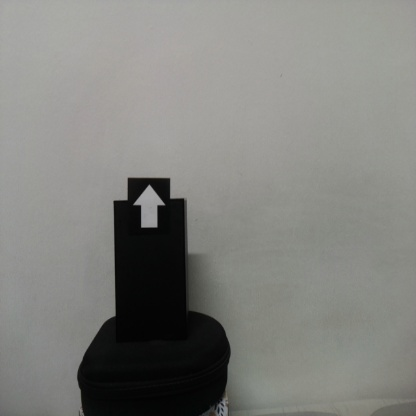id_1: (127, 178, 171, 241)
